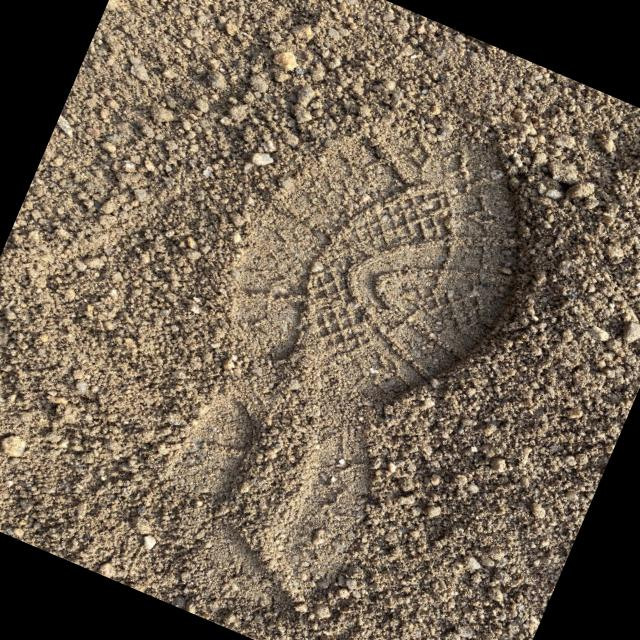human_footprint: (76, 60, 600, 640)
